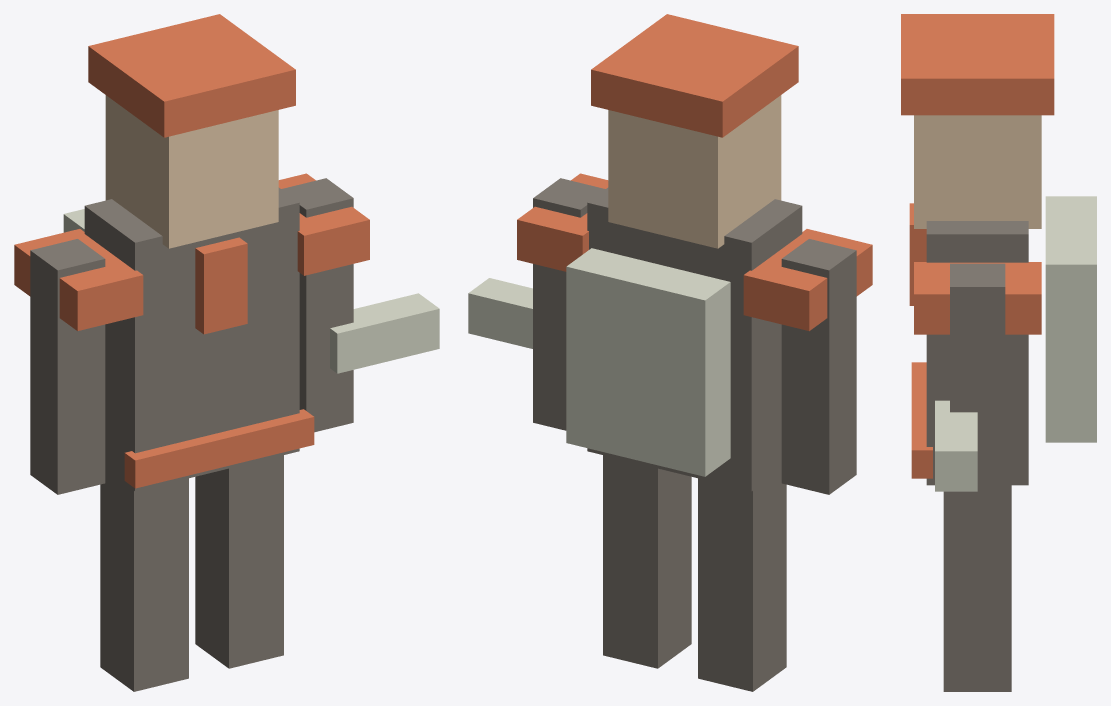
The model's file is 05_auren_chromabell_sentinel_under_glyph.glb.
The picture shows the model from 3 angles, left to right: view 1: azimuth 30°, elevation 25°; view 2: azimuth 150°, elevation 25°; view 3: azimuth 270°, elevation 25°; orthographic projection.
Visible parts, largest first — view 1: Auren Chromabell, Sentinel under Glyph; view 2: Auren Chromabell, Sentinel under Glyph; view 3: Auren Chromabell, Sentinel under Glyph.
Part boxes in pixels (box(x1,y1,x2,y2)): Auren Chromabell, Sentinel under Glyph: box(14, 14, 439, 691); Auren Chromabell, Sentinel under Glyph: box(468, 14, 872, 691); Auren Chromabell, Sentinel under Glyph: box(901, 14, 1096, 691).
Bounding box in the file's own units: 1.07 × 1.64 × 0.4792.
